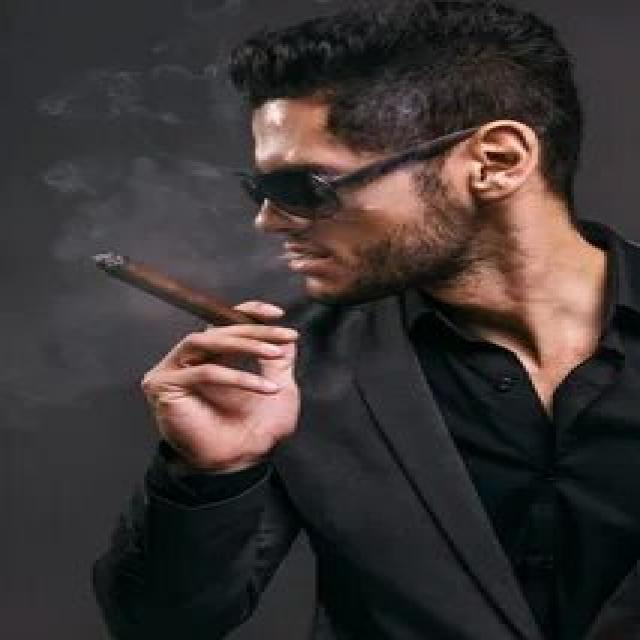smoke: (84, 252, 274, 338)
